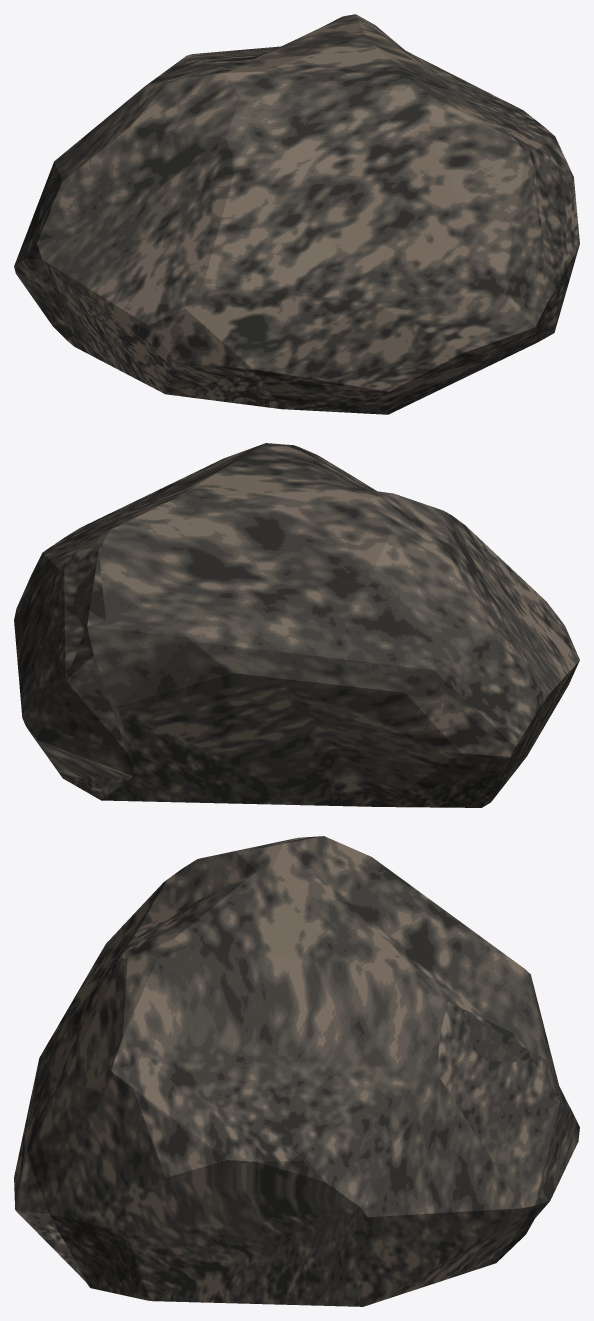
Rendered from rock_2.fbx.
3 views of the same model, one above another, from view 1: azimuth 30°, elevation 25°; view 2: azimuth 150°, elevation 25°; view 3: azimuth 270°, elevation 25° (orthographic). The views are drawn at different scales.
Parts seen in each view (by area): view 1: Icosphere.002; view 2: Icosphere.002; view 3: Icosphere.002.
Boxes of the visible parts, x1,y1,x2,y2 form: Icosphere.002: (14, 14, 579, 414); Icosphere.002: (14, 443, 579, 807); Icosphere.002: (14, 836, 579, 1306).
Size of the model in its own units: 1202 by 1026 by 679.
